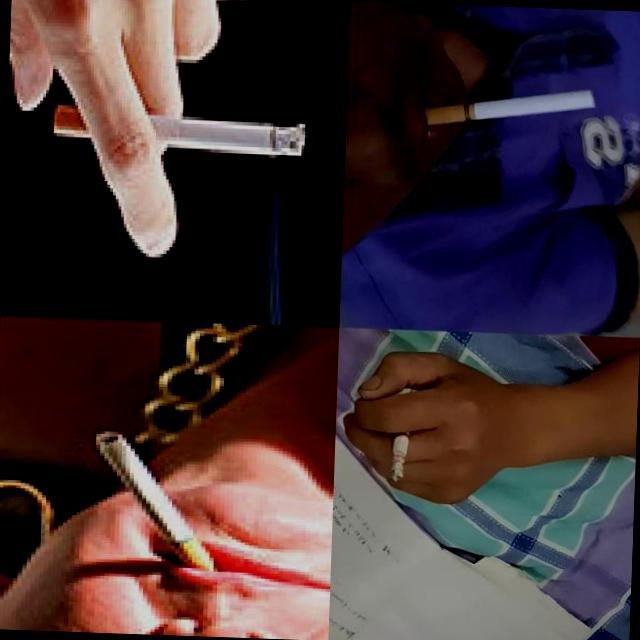smoke: (88, 429, 220, 574), (52, 102, 306, 158), (424, 82, 599, 132), (391, 420, 411, 482)
